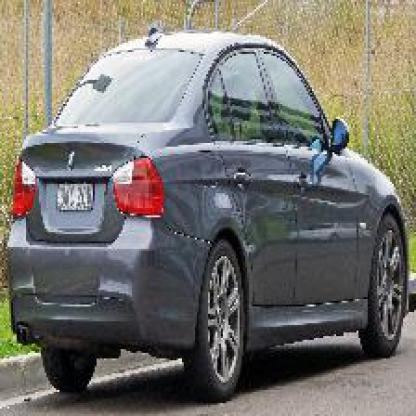not_emergency: (17, 30, 414, 377)
